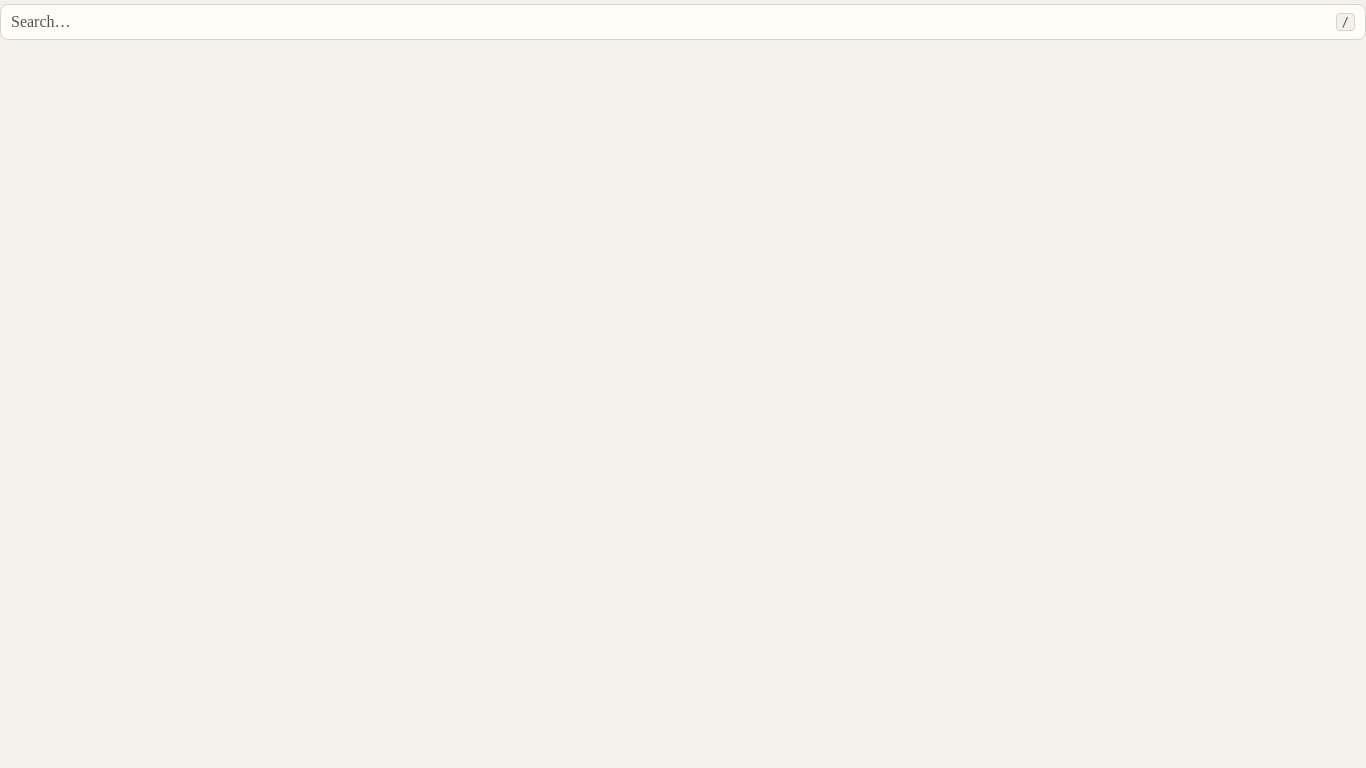
Test case: Command palette › shows commands when empty and grouped results after search
This screenshot has width=1366, height=768.
Press /
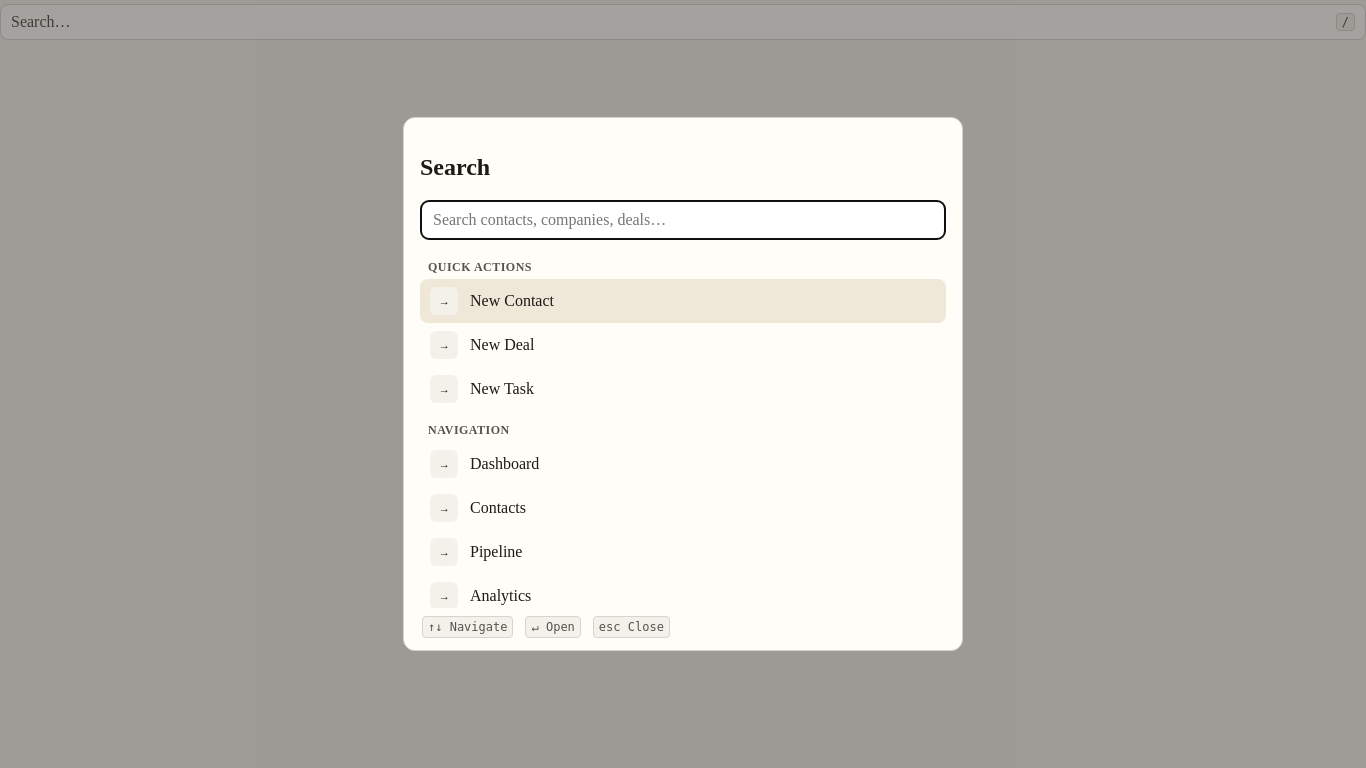
Now the text "New Contact" is shown, box x1=470 y1=292 x2=554 y2=309
Now the text "Dashboard" is shown, box x1=470 y1=455 x2=539 y2=472
Type "john" into the dropdown at (683, 220), box x1=420 y1=200 x2=946 y2=240
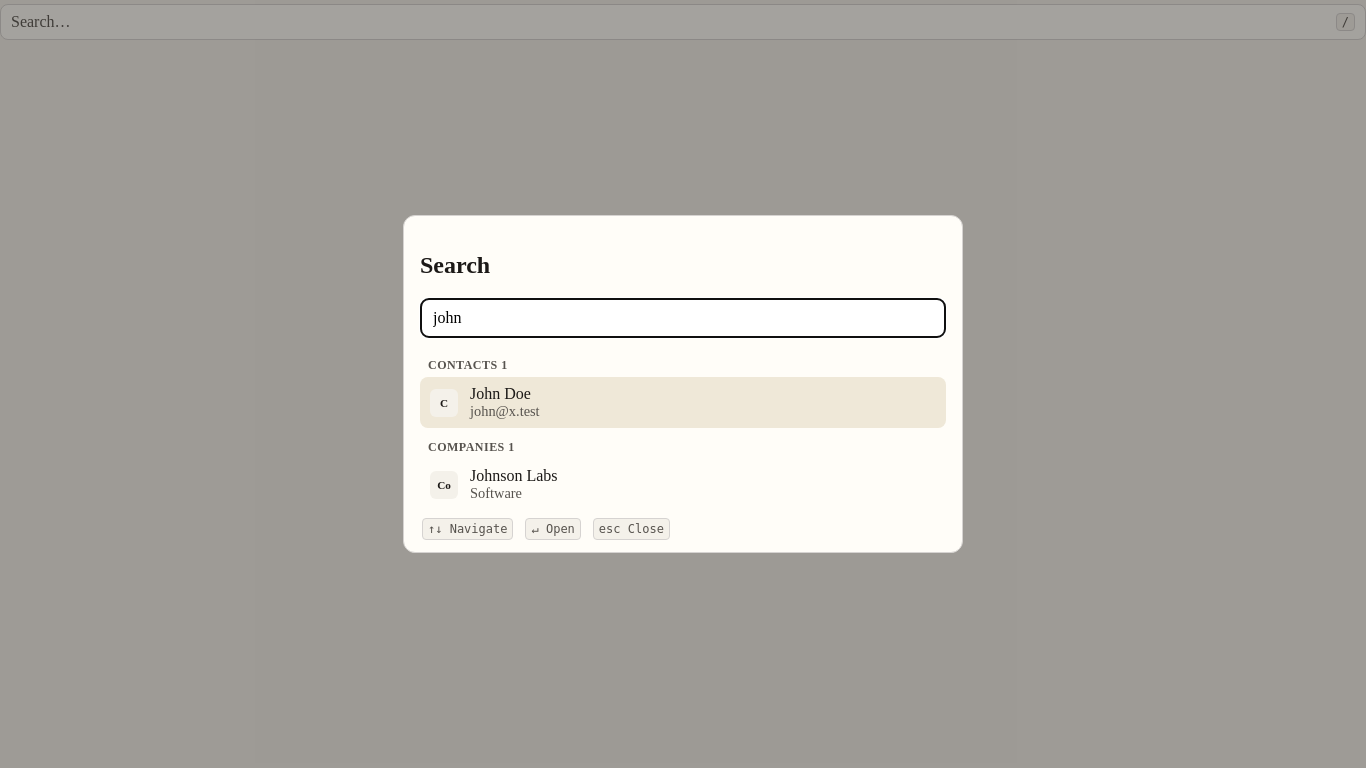
Now the text "John Doe" is shown, box x1=470 y1=385 x2=531 y2=402
Now the heading "Contacts 1" is shown, box x1=428 y1=358 x2=508 y2=372
Now the heading "Companies 1" is shown, box x1=428 y1=440 x2=515 y2=454
